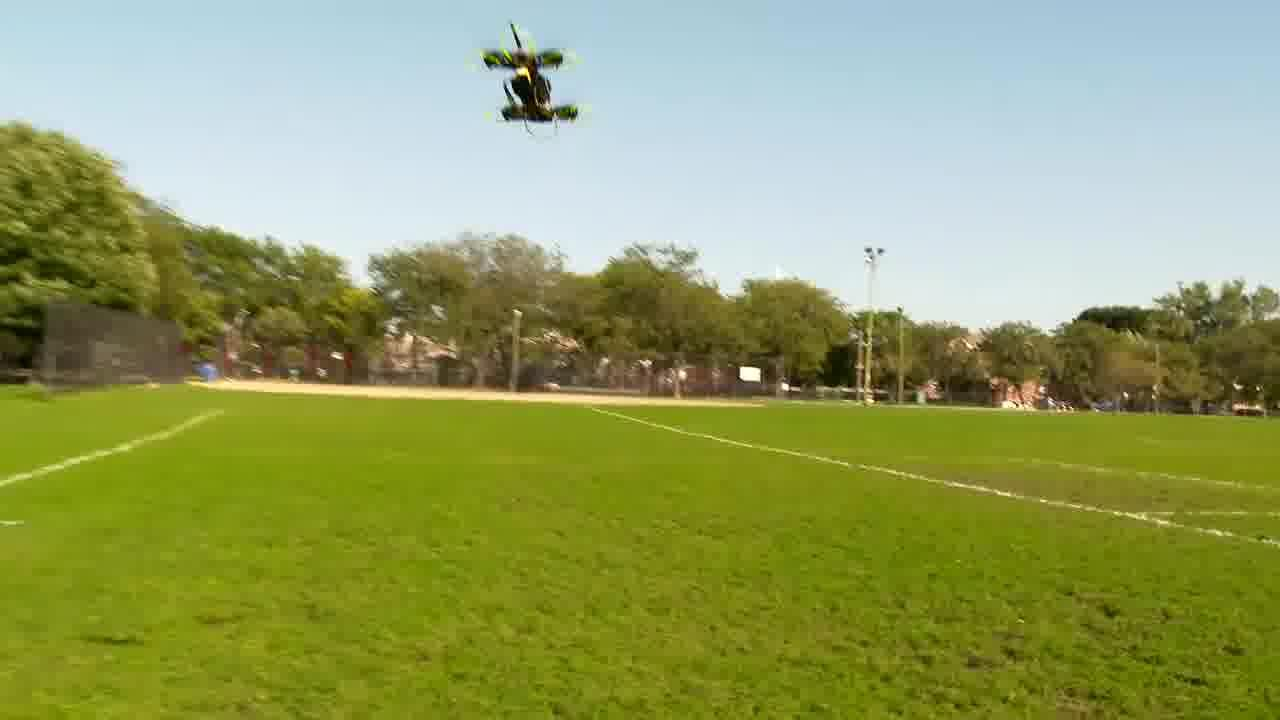drone: (463, 29, 596, 135)
